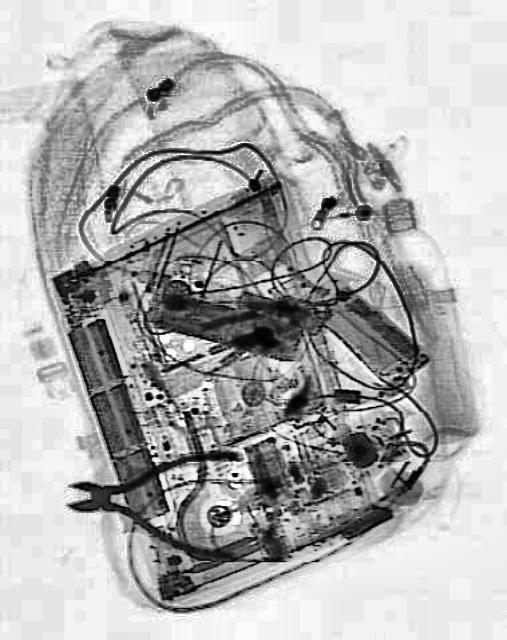Pliers: (63, 438, 239, 560)
